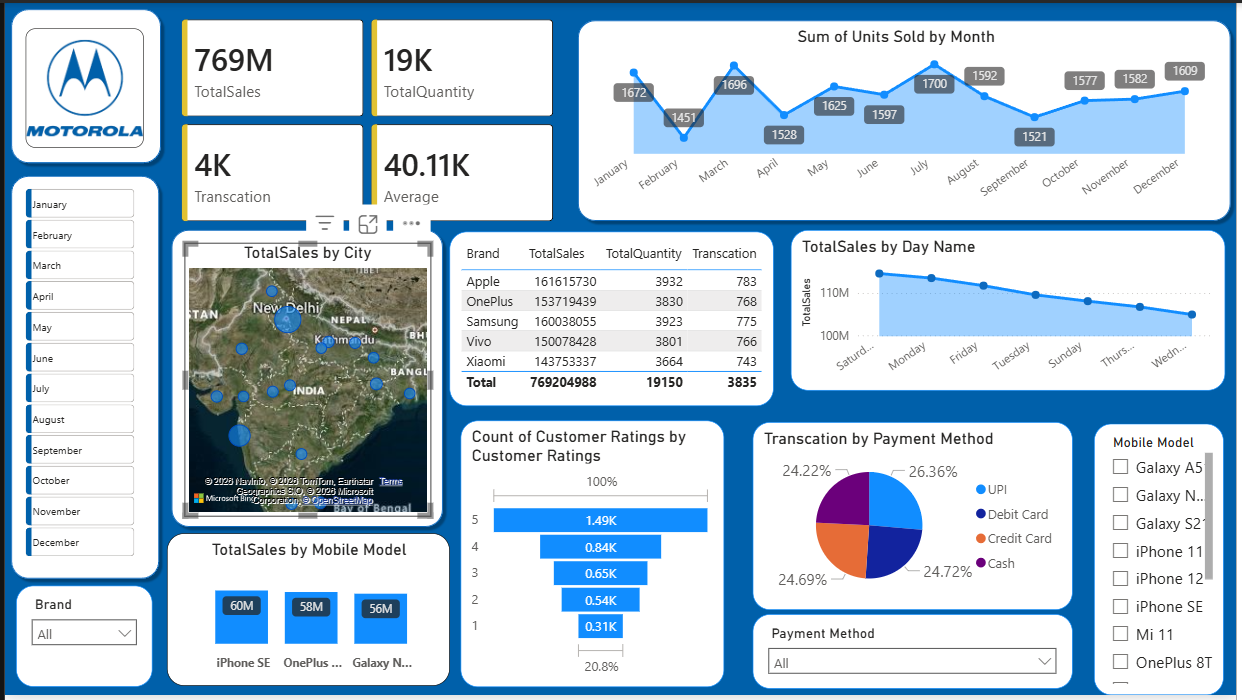

The dashboard page shown, as its layout file describes it:
{"tool":"powerbi","page":{"name":"Page 1","canvas":[1280,720],"ordinal":0},"visuals":[{"type":"shape","box":[0,0,168.6,172.9],"z":0},{"type":"image","box":[21.4,25.7,122.9,124.3],"z":1000},{"type":"shape","box":[166.7,230,295,321.7],"z":2000},{"type":"shape","box":[0,173.3,166.7,431.7],"z":3000},{"type":"advancedSlicerVisual","fields":{"Values":["MobileSalesData.Date.Variation.Date Hierarchy.Month"]},"box":[16.7,188.3,136.7,393.3],"z":4000},{"type":"cardVisual","fields":{"Data":["MobileSalesData.TotalSales","MobileSalesData.TotalQuantity","MobileSalesData.Transcation","MobileSalesData.Average"]},"box":[167.1,0,421.4,245.7],"z":5000},{"type":"map","fields":{"Size":["MobileSalesData.TotalSales"],"Category":["MobileSalesData.City"]},"box":[186.7,250,256.7,285],"z":6000},{"type":"shape","box":[588.6,11.4,691.4,221.4],"z":7000},{"type":"lineChart","fields":{"Y":["Sum(MobileSalesData.Units Sold)"],"Category":["MobileSalesData.Date.Variation.Date Hierarchy.Month","MobileSalesData.Date.Variation.Date Hierarchy.Day"]},"box":[600,25,651.7,190],"z":8000},{"type":"clusteredColumnChart","fields":{"Y":["MobileSalesData.TotalSales"],"Category":["MobileSalesData.Mobile Model"]},"box":[168.6,551.4,294.3,158.6],"z":9000},{"type":"pieChart","fields":{"Category":["MobileSalesData.Payment Method"],"Y":["MobileSalesData.Transcation"]},"box":[777.5,435,332.5,195],"z":10000},{"type":"funnel","fields":{"Category":["MobileSalesData.Customer Ratings"],"Y":["CountNonNull(MobileSalesData.Customer Ratings)"]},"box":[474.3,434.3,274.3,277.1],"z":11000},{"type":"tableEx","fields":{"Values":["MobileSalesData.Brand","MobileSalesData.TotalSales","MobileSalesData.TotalQuantity","MobileSalesData.Transcation"]},"box":[462.9,237.1,337.1,181.4],"z":12000},{"type":"lineChart","fields":{"Category":["MobileSalesData.Day Name"],"Y":["MobileSalesData.TotalSales"]},"box":[817.1,235.7,451.4,167.1],"z":13000},{"type":"slicer","fields":{"Values":["MobileSalesData.Mobile Model"]},"box":[1132.5,437.5,135,282.5],"z":14000},{"type":"slicer","fields":{"Values":["MobileSalesData.Payment Method"]},"box":[777.5,635,332.5,77.5],"z":15000},{"type":"slicer","fields":{"Values":["MobileSalesData.Brand"]},"box":[11.7,605,141.7,105],"z":16000}]}

Visuals, with their boxes in screenshot pixels (x1, y1, x2, y2), scaled from the page's 1280x720 canvas onto the 1242x700 screenshot:
shape: 0,0,164,168
image: 21,25,140,146
shape: 162,224,448,536
shape: 0,168,162,588
advancedSlicerVisual - MobileSalesData.Date.Variation.Date Hierarchy.Month: 16,183,149,565
cardVisual - MobileSalesData.TotalSales x MobileSalesData.TotalQuantity: 162,0,571,239
map - MobileSalesData.TotalSales x MobileSalesData.City: 181,243,430,520
shape: 571,11,1241,226
lineChart - Sum(MobileSalesData.Units Sold) x MobileSalesData.Date.Variation.Date Hierarchy.Month: 582,24,1215,209
clusteredColumnChart - MobileSalesData.TotalSales x MobileSalesData.Mobile Model: 164,536,449,690
pieChart - MobileSalesData.Payment Method x MobileSalesData.Transcation: 754,423,1077,612
funnel - MobileSalesData.Customer Ratings x CountNonNull(MobileSalesData.Customer Ratings): 460,422,726,692
tableEx - MobileSalesData.Brand x MobileSalesData.TotalSales: 449,231,776,407
lineChart - MobileSalesData.Day Name x MobileSalesData.TotalSales: 793,229,1231,392
slicer - MobileSalesData.Mobile Model: 1099,425,1230,699
slicer - MobileSalesData.Payment Method: 754,617,1077,693
slicer - MobileSalesData.Brand: 11,588,149,690
